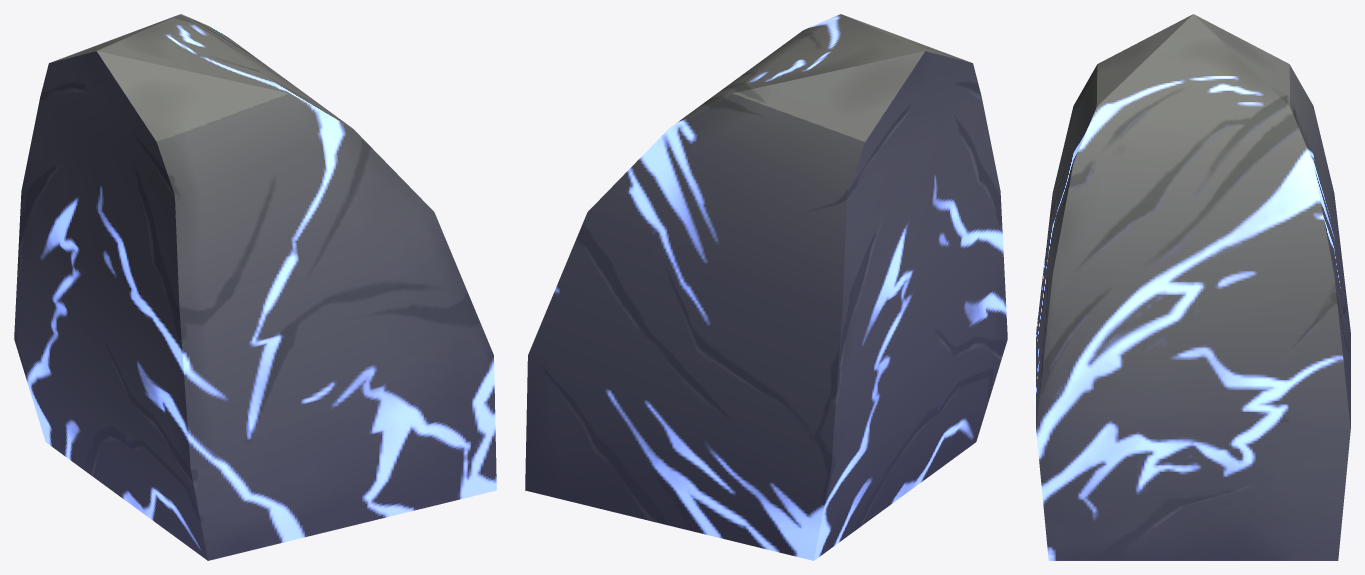
Rendered from rock_y4.fbx.
3 views of the same model, side by side, from view 1: azimuth 30°, elevation 25°; view 2: azimuth 150°, elevation 25°; view 3: azimuth 270°, elevation 25° (orthographic). The views are drawn at different scales.
Visible parts, largest first — view 1: Cube.001.frozen; view 2: Cube.001.frozen; view 3: Cube.001.frozen.
Boxes of the visible parts, left/top/right/bottom form: Cube.001.frozen: left=14, top=14, right=496, bottom=560; Cube.001.frozen: left=525, top=14, right=1007, bottom=560; Cube.001.frozen: left=1036, top=14, right=1350, bottom=560.
Size of the model in its own units: 149 by 201 by 140.
1 material, 1 textured.
